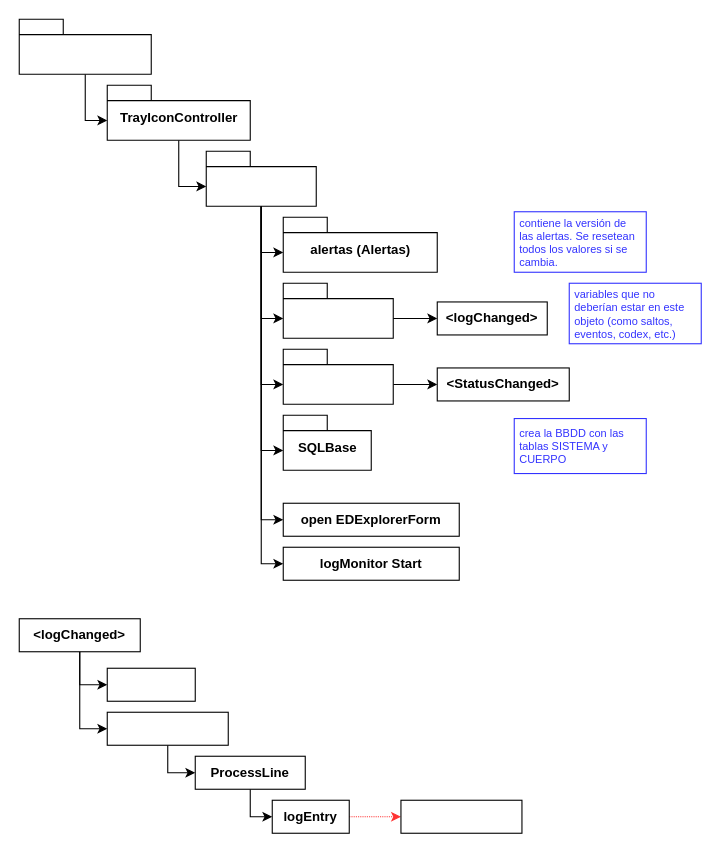
This 721x853 diagram has some shape labels left out. The shapes that lost their labels are listed below. From the top down, each one's centre as x and y in pixels, then its label:
point 84,46: EDExplorer.Main
point 260,178: basi (Base)
point 337,310: logMonitor
point 337,376: statusMonitor
point 150,684: ReadLine
point 167,728: ProcessEvent
point 461,816: <basi.logEvent>
